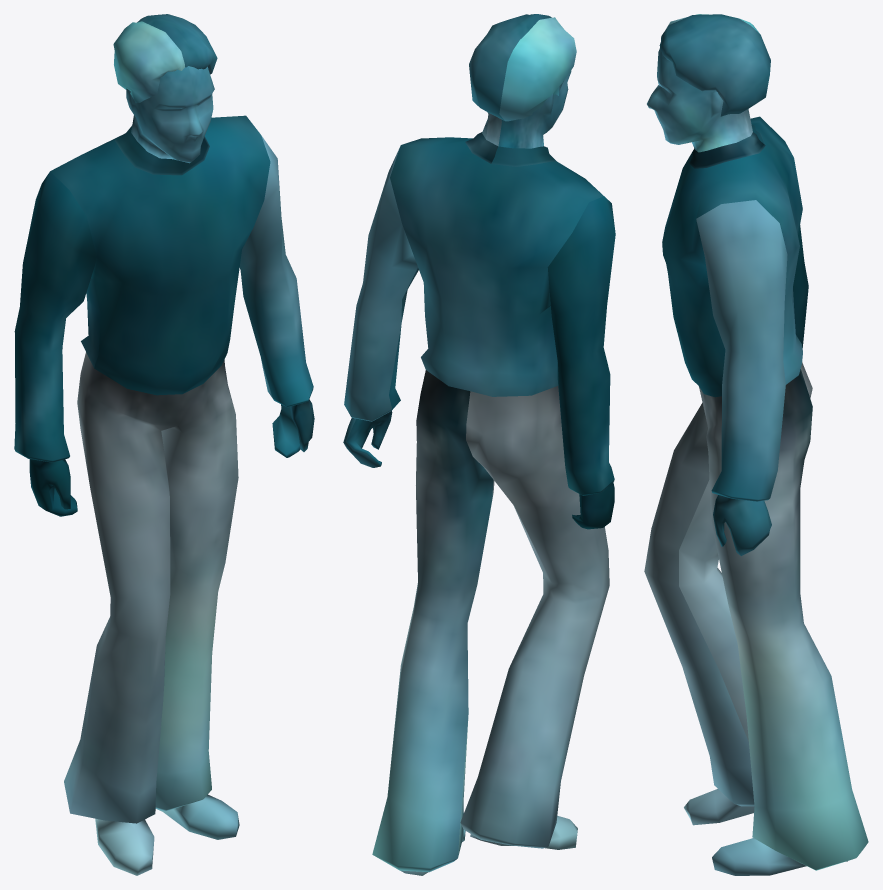
Rendered from simpleMan09.obj.
The picture shows the model from 3 angles, left to right: view 1: azimuth 30°, elevation 25°; view 2: azimuth 150°, elevation 25°; view 3: azimuth 270°, elevation 25°; orthographic projection. The views are drawn at different scales.
Parts seen in each view (by area): view 1: uomo; view 2: uomo; view 3: uomo.
Part boxes in pixels (box(x1,y1,x2,y2)): uomo: box(14, 14, 314, 875); uomo: box(343, 14, 615, 875); uomo: box(644, 14, 868, 875).
Size of the model in its own units: 1.71 by 4.96 by 1.23.
